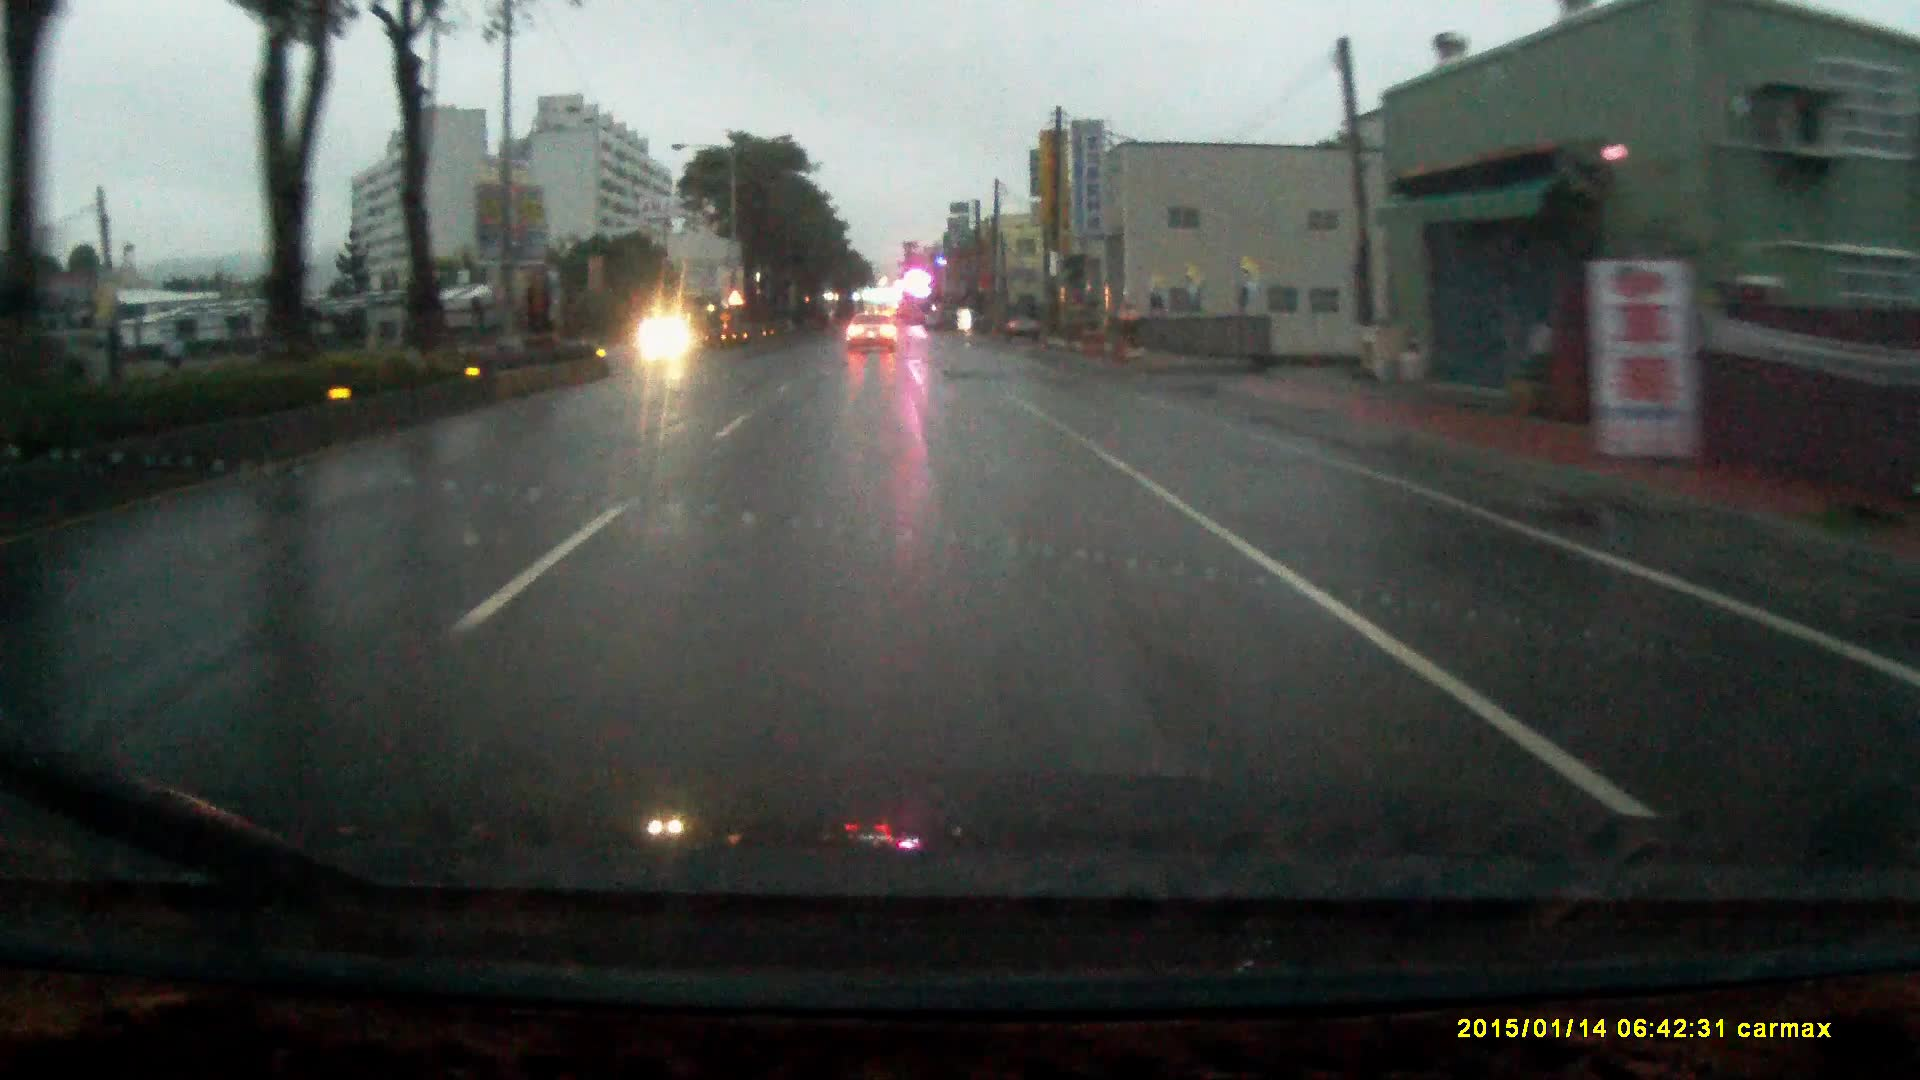vehicle: (847, 314, 899, 356), (1007, 284, 1044, 326)
